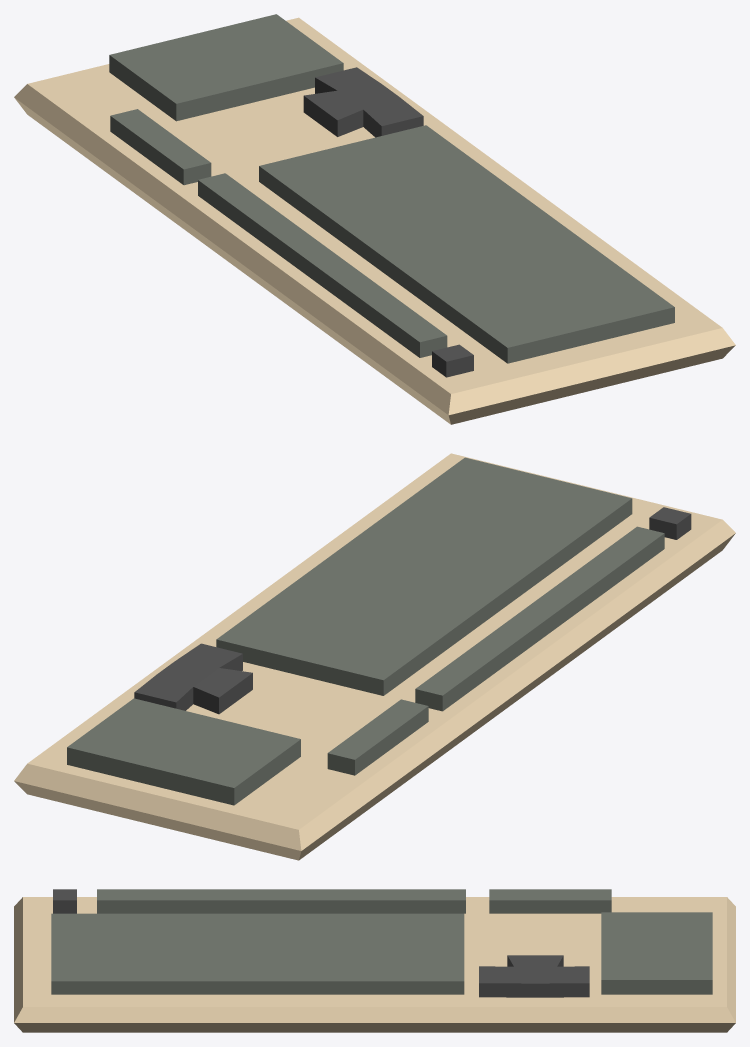
File: keyboardOld.fbx
3 renders of one model, top to bottom at view 1: azimuth 30°, elevation 25°; view 2: azimuth 150°, elevation 25°; view 3: azimuth 270°, elevation 25°, orthographic. The views are drawn at different scales.
Visible parts, largest first — view 1: Boody, Main, NumePud, Top, Cros, Top.002, Top.001; view 2: Boody, Main, NumePud, Top, Cros, Top.002, Top.001; view 3: Boody, Main, NumePud, Top, Cros, Top.002, Top.001.
Part boxes in pixels (x1,y1,x2,y2): Boody: [14, 17, 735, 424]; Main: [259, 125, 674, 363]; NumePud: [109, 14, 343, 121]; Top: [198, 173, 447, 357]; Cros: [303, 67, 423, 137]; Top.002: [110, 109, 211, 185]; Top.001: [432, 344, 473, 377]; Boody: [14, 453, 735, 860]; Main: [216, 457, 632, 695]; NumePud: [67, 698, 300, 805]; Top: [415, 526, 664, 711]; Cros: [134, 643, 252, 714]; Top.002: [327, 699, 428, 775]; Top.001: [649, 507, 691, 539]; Boody: [14, 897, 735, 1032]; Main: [51, 913, 464, 994]; NumePud: [601, 912, 712, 994]; Top: [97, 889, 465, 913]; Cros: [479, 955, 589, 997]; Top.002: [489, 889, 611, 913]; Top.001: [53, 889, 76, 913].
Size of the model in its own units: 78.3 by 12.55 by 205.
